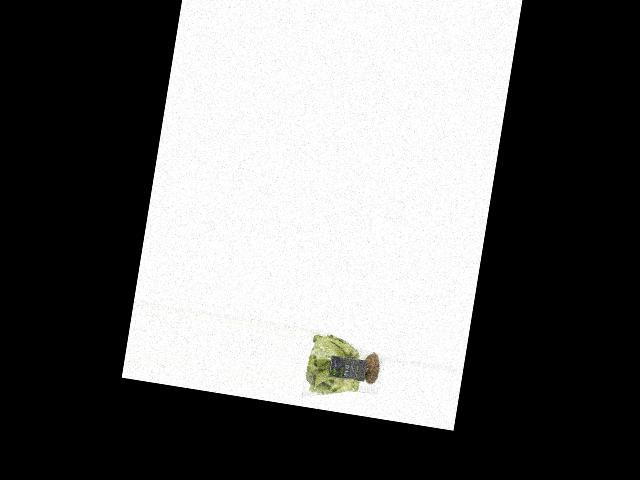lettuce: (301, 329, 388, 406)
